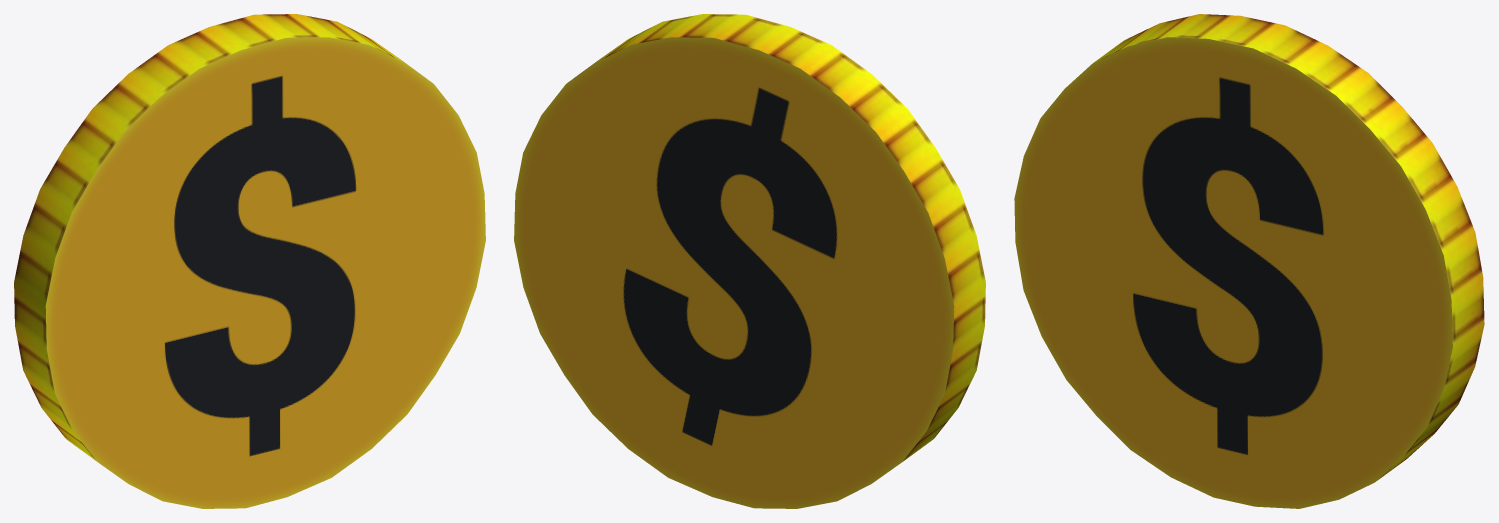
File: coin.fbx
3 renders of one model, left to right at view 1: azimuth 30°, elevation 25°; view 2: azimuth 150°, elevation 25°; view 3: azimuth 330°, elevation 25°, orthographic.
Visible parts, largest first — view 1: model_2; view 2: model_2; view 3: model_2.
Boxes of the visible parts, x1,y1,x2,y2 form: model_2: (14, 14, 485, 508); model_2: (514, 14, 985, 508); model_2: (1014, 14, 1484, 508).
Size of the model in its own units: 200 by 200 by 24.97.
